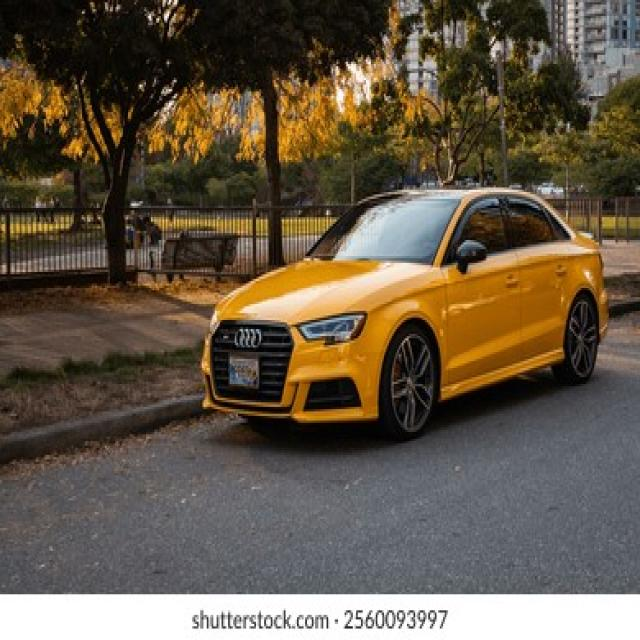audi: (232, 328, 265, 353)
